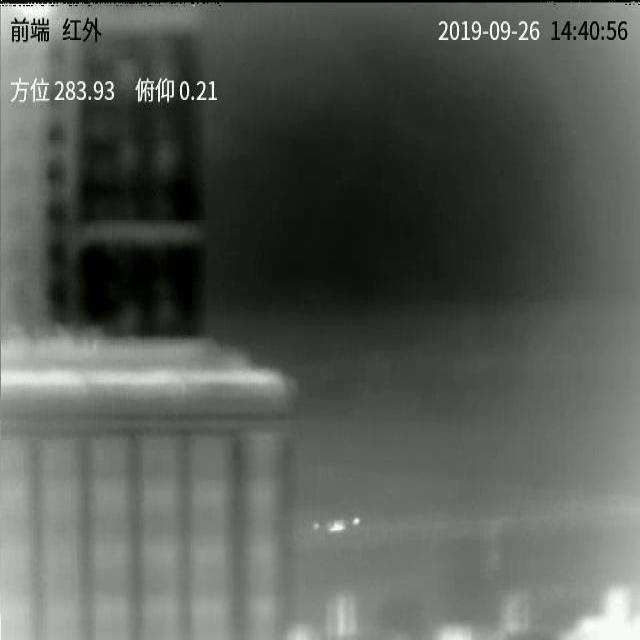drone: (312, 516, 361, 533)
